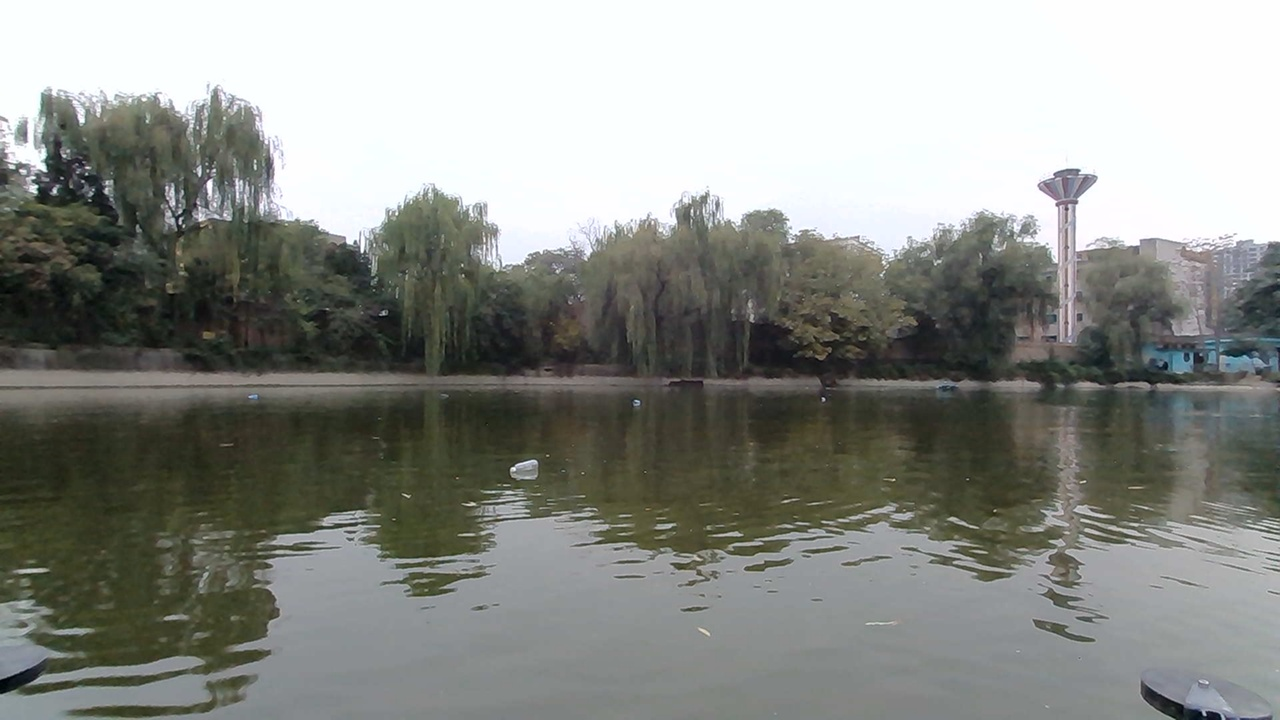bottle: (503, 454, 562, 483), (621, 394, 652, 412)
